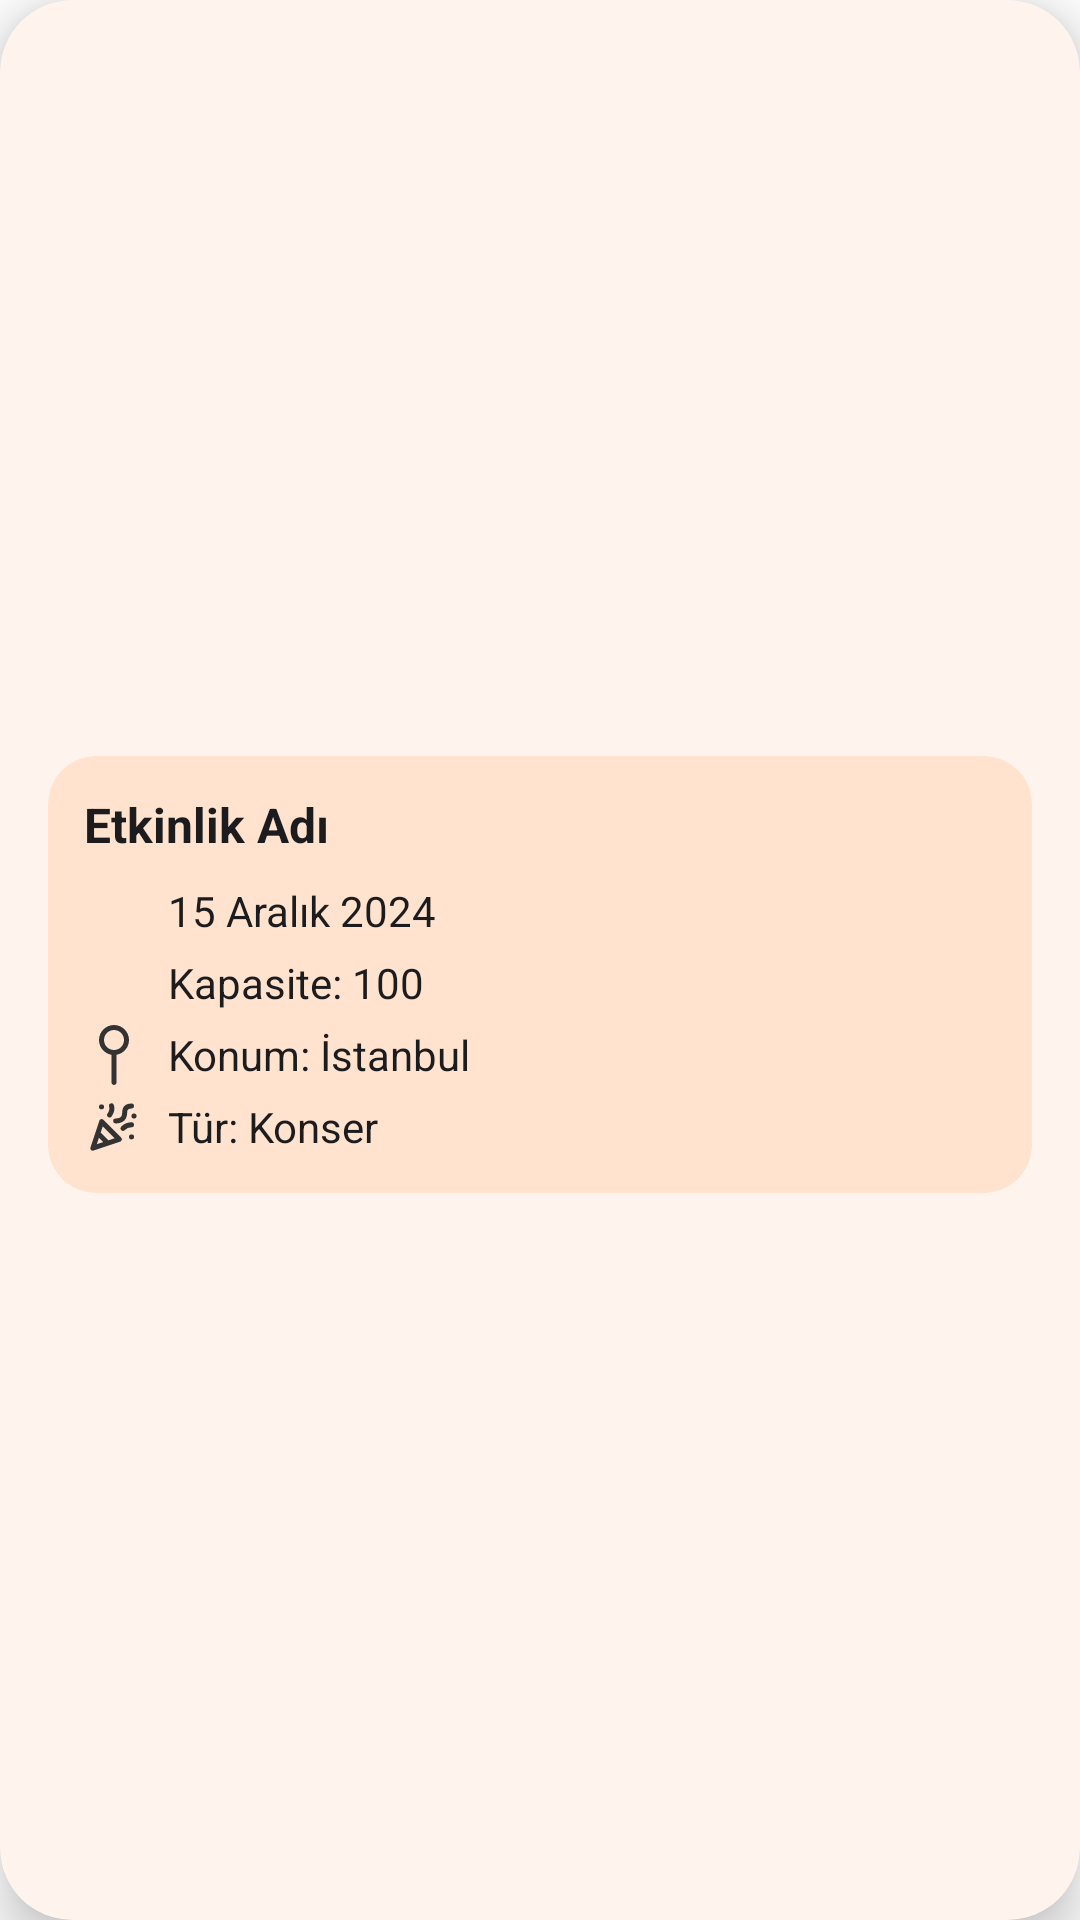

Icon bounding boxes for this 1080 × 1920 phone screenshot, format box(x1, y1, x2, y2):
location: box(99, 1025, 129, 1085)
